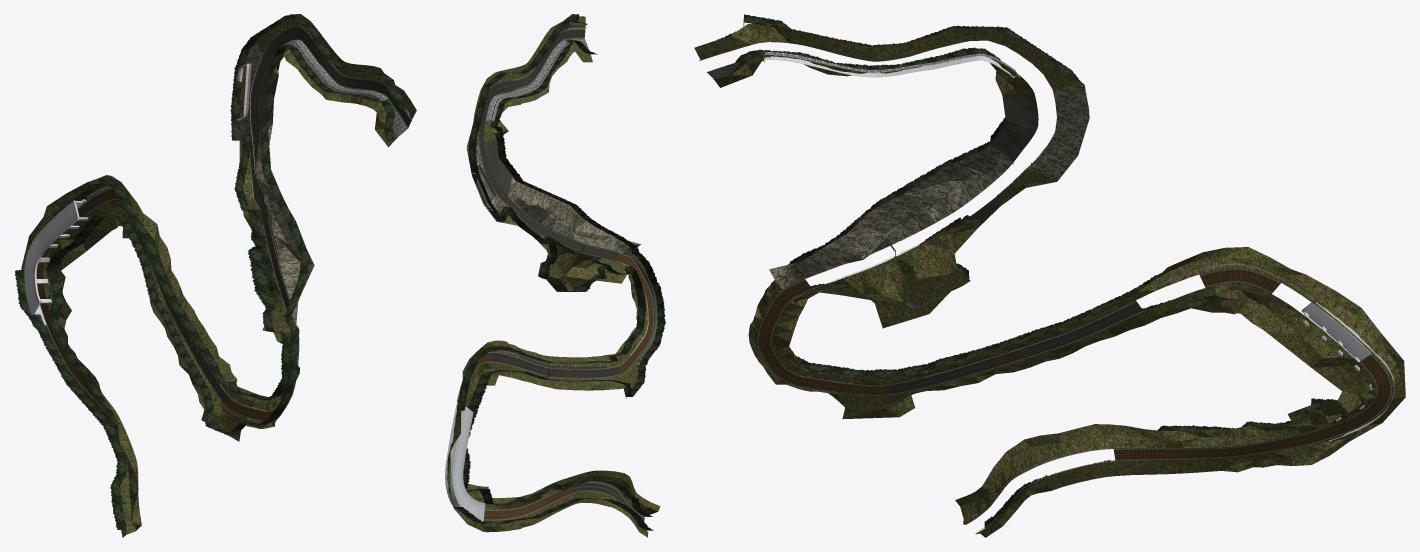
The model's file is okaru1.glb.
3 renders of one model, left to right at view 1: azimuth 30°, elevation 25°; view 2: azimuth 150°, elevation 25°; view 3: azimuth 270°, elevation 25°, orthographic. The views are drawn at different scales.
Visible parts, largest first — view 1: okaru1; view 2: okaru1; view 3: okaru1.
Part boxes in pixels (bbox=[...]): okaru1: bbox=[15, 14, 416, 537]; okaru1: bbox=[445, 14, 665, 537]; okaru1: bbox=[694, 14, 1405, 537].
Bounding box in the file's own units: 171 × 414 × 423.
29 materials, 28 textured.
